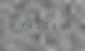four: (17, 18, 24, 29)
seven: (58, 21, 65, 32)
six: (25, 18, 32, 30), (42, 19, 49, 31), (50, 20, 57, 32), (34, 19, 41, 30)
